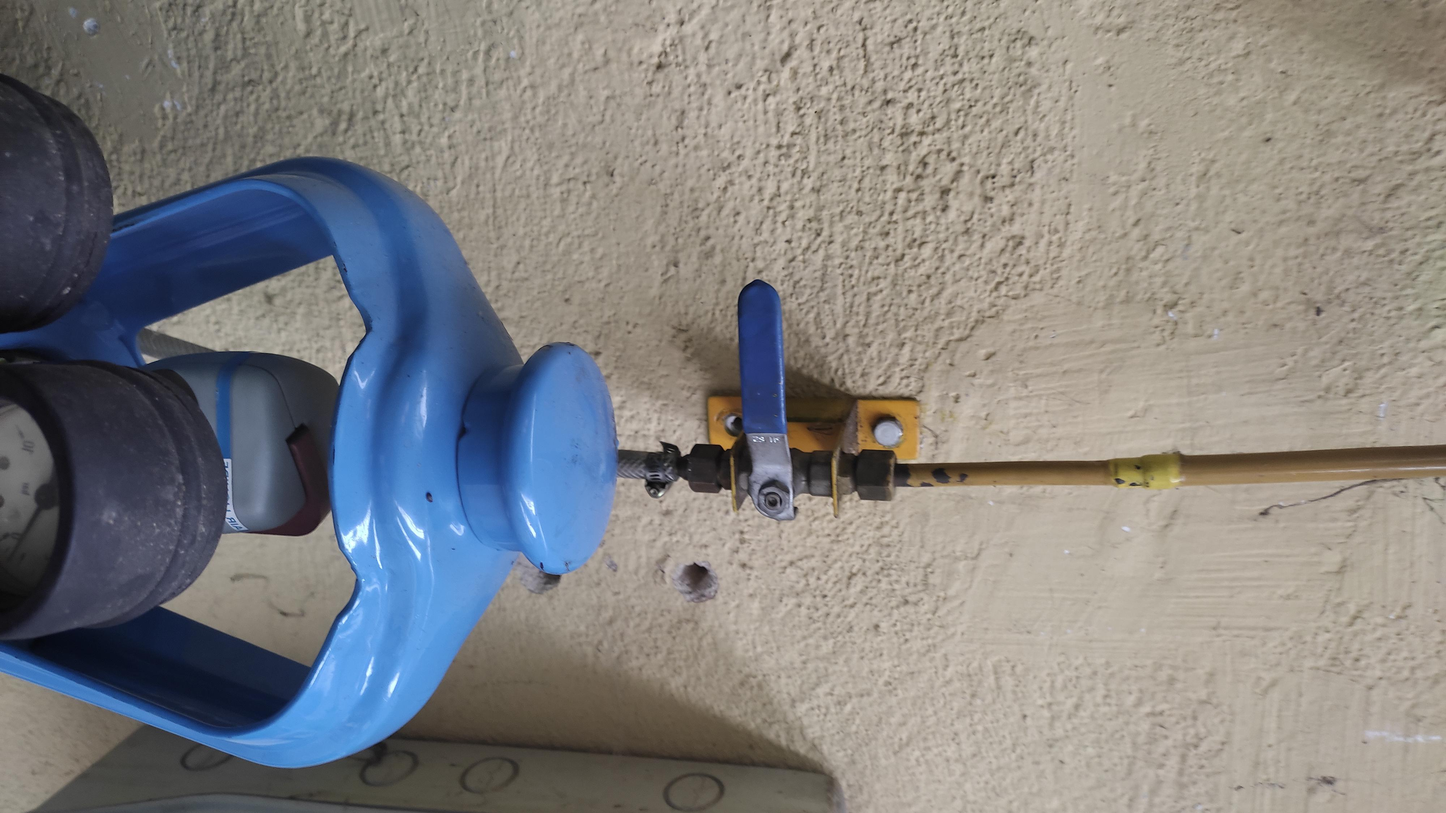closed valve: (722, 276, 846, 523)
